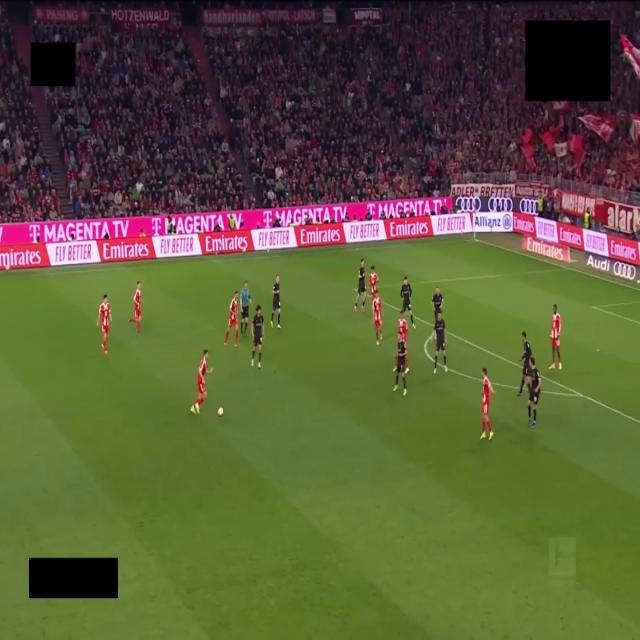ball: (218, 408, 223, 416)
player: (190, 350, 212, 414), (481, 368, 494, 439), (528, 357, 541, 427), (433, 313, 447, 373), (97, 295, 111, 355), (518, 332, 531, 396), (224, 291, 238, 347), (252, 305, 264, 367), (394, 334, 406, 395), (550, 305, 561, 369), (398, 311, 409, 373), (401, 277, 414, 328), (129, 281, 141, 332), (355, 259, 366, 312), (372, 292, 382, 344), (271, 275, 280, 328), (432, 287, 443, 318), (369, 265, 378, 298)
referee: (240, 281, 251, 335)
